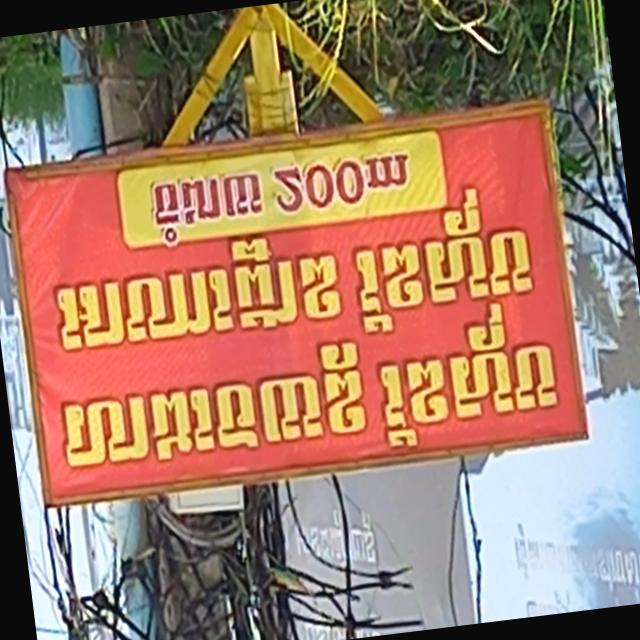1: (48, 172, 538, 361)
643: (272, 155, 368, 220)
Yolov11_80vkh: (56, 302, 563, 489), (145, 166, 267, 247)
